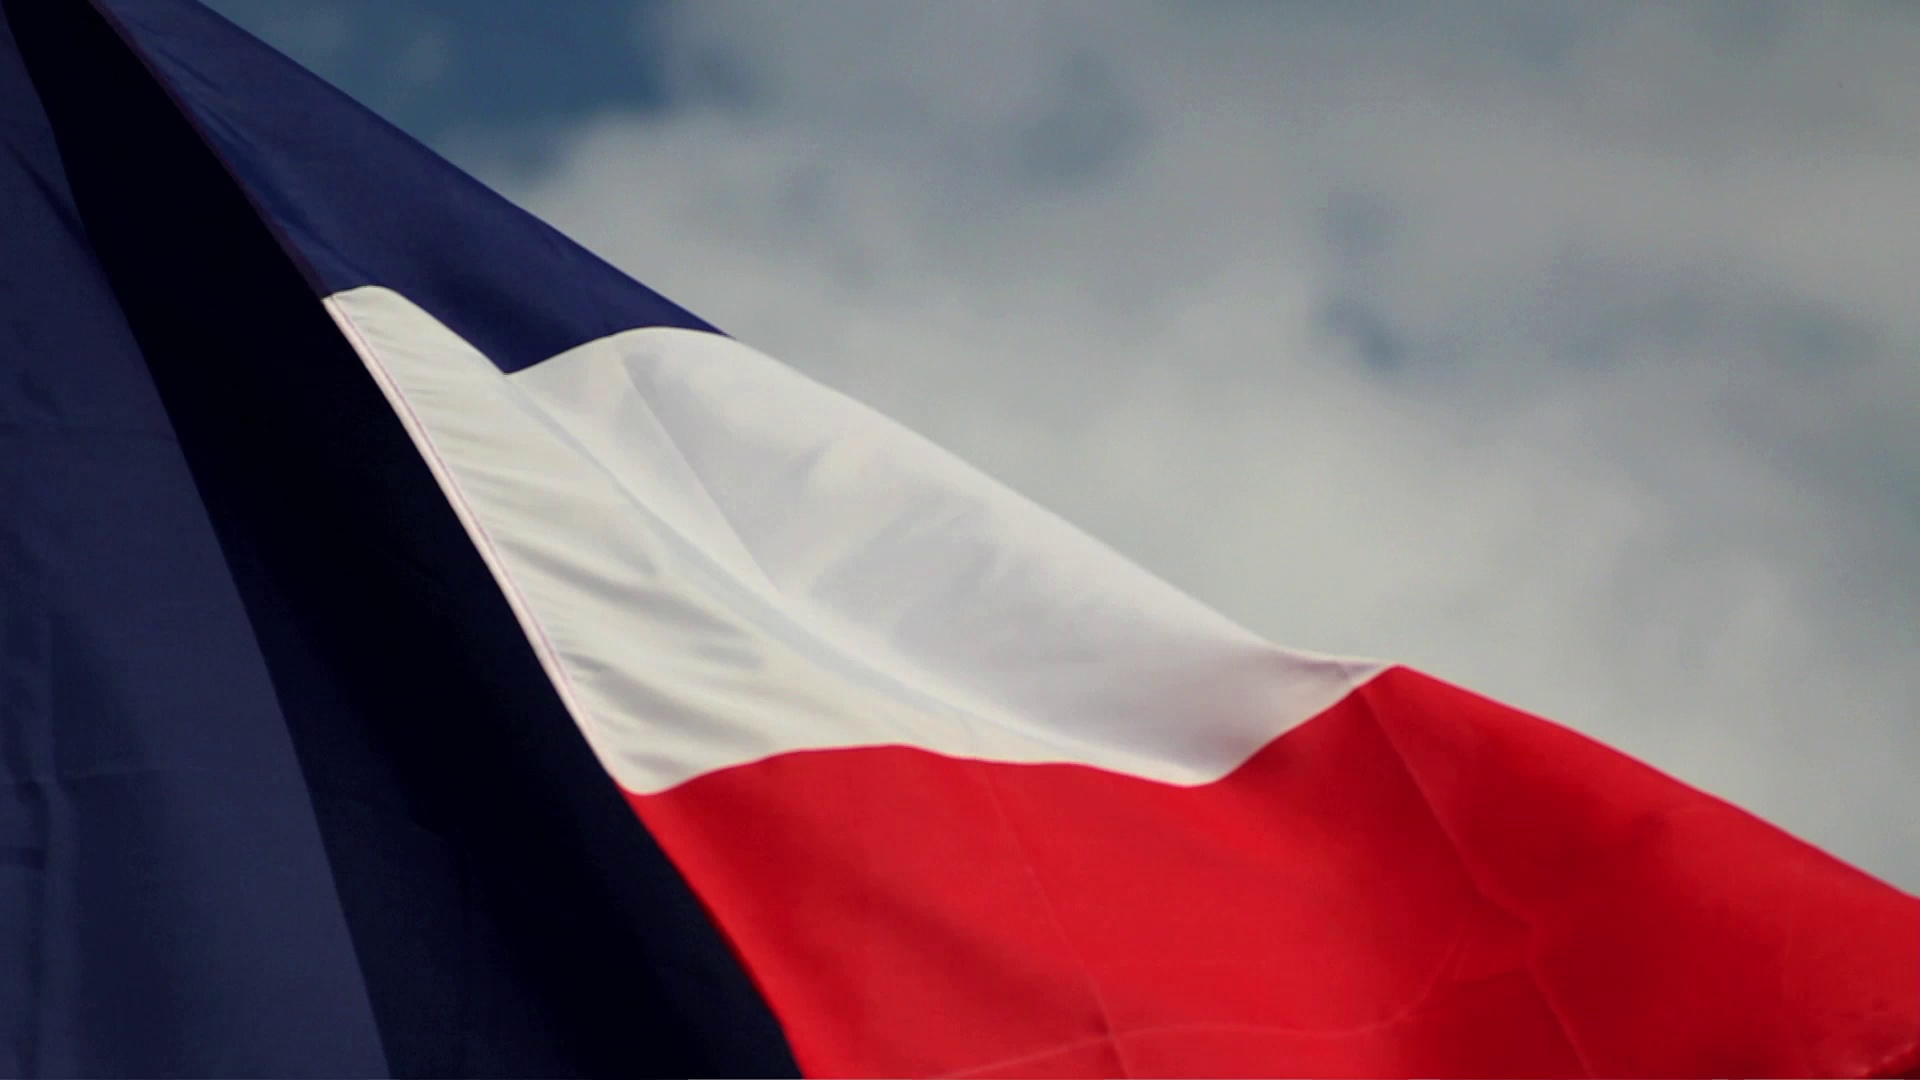French Flag: (1, 4, 1920, 1080)
